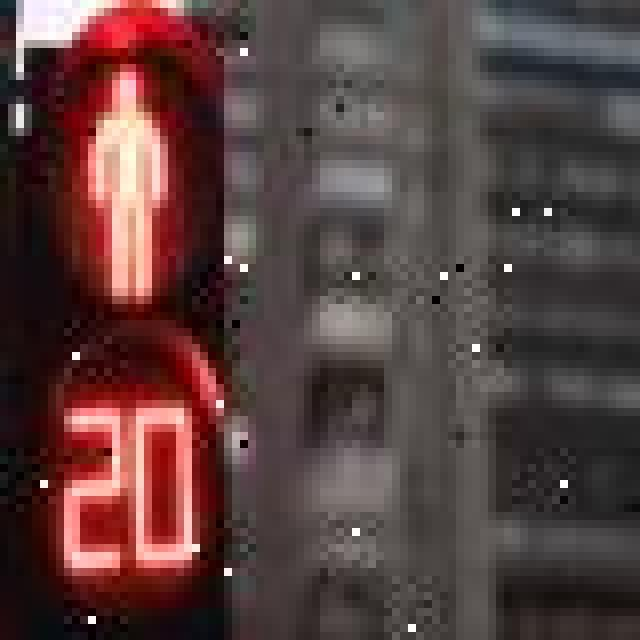redlight: (24, 40, 232, 640)
